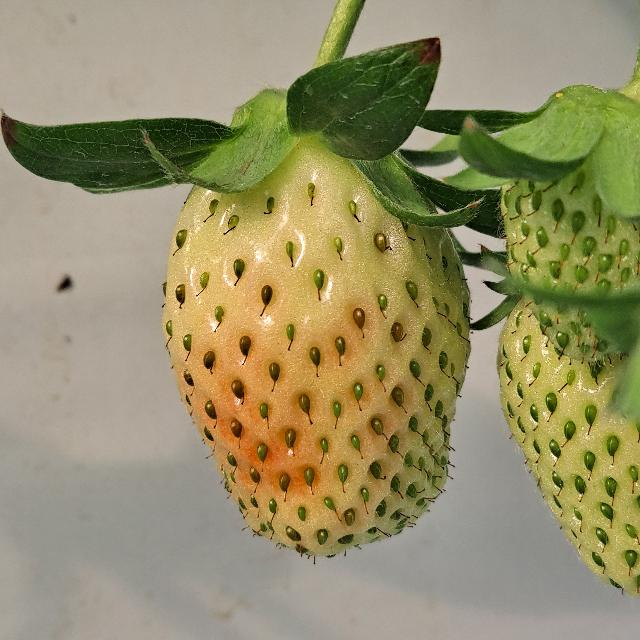Health_50: (162, 138, 470, 556)
